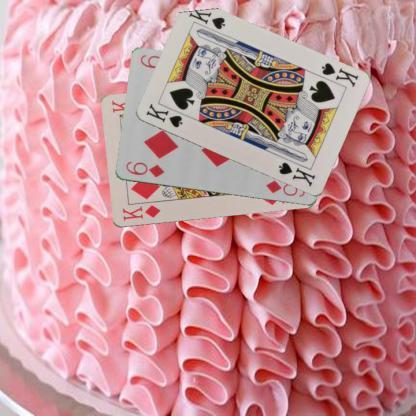6d: (123, 159, 166, 179)
Kd: (120, 202, 162, 223)
Ks: (142, 101, 184, 130), (318, 60, 360, 89)
